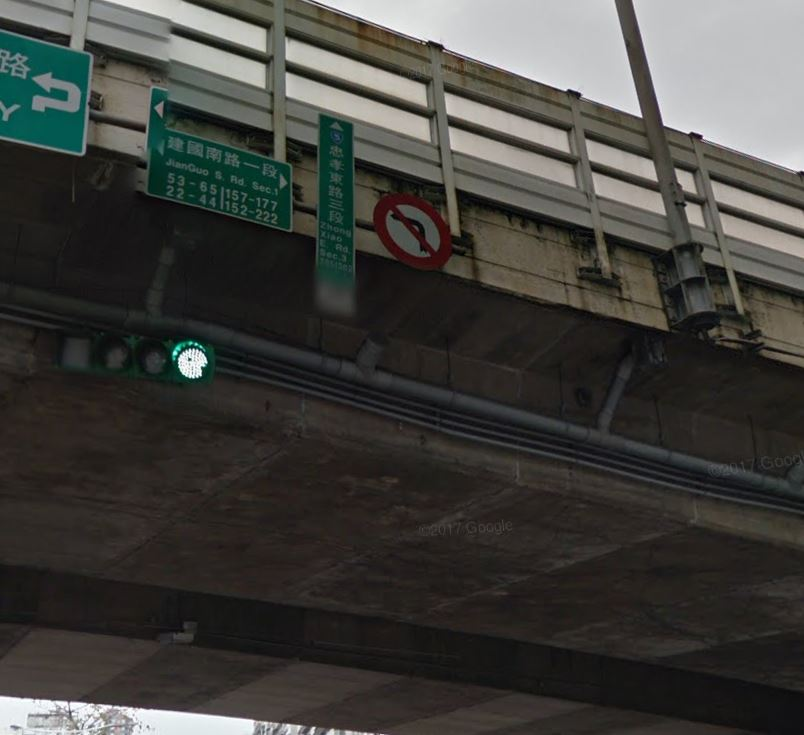No_left_turn: (375, 193, 452, 271)
Traffic_light_green: (56, 332, 214, 384)
